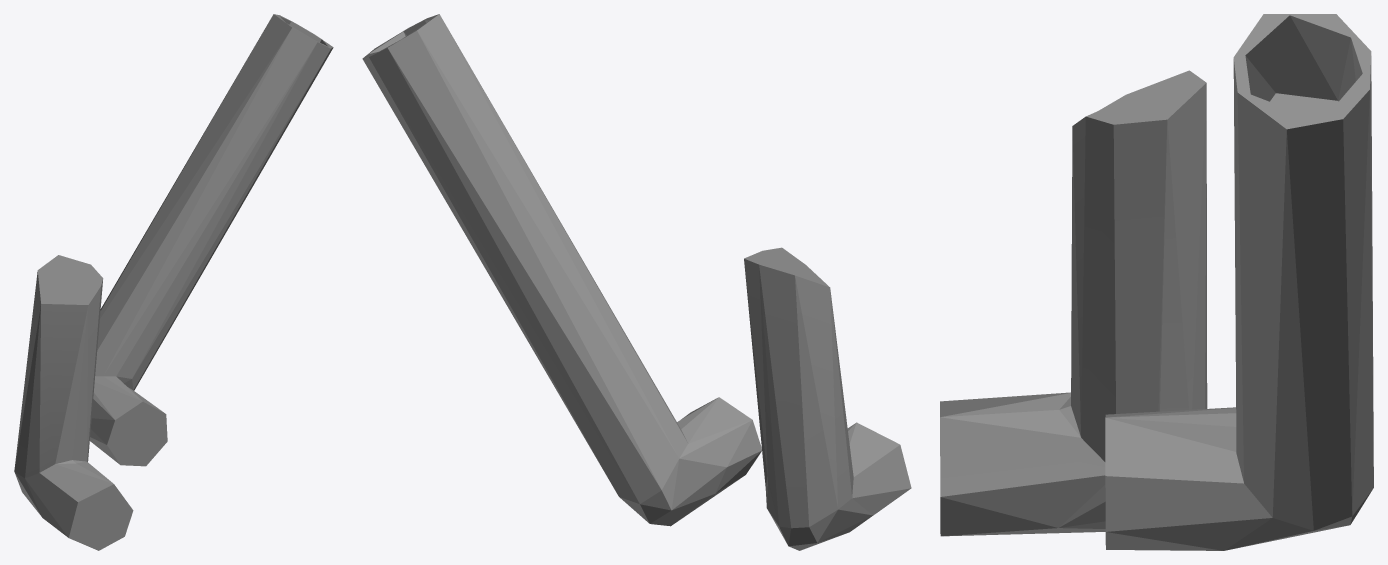
File: Tubo1.fbx
The picture shows the model from 3 angles, left to right: view 1: azimuth 30°, elevation 25°; view 2: azimuth 150°, elevation 25°; view 3: azimuth 270°, elevation 25°; orthographic projection. The views are drawn at different scales.
Visible parts, largest first — view 1: Tubo1; view 2: Tubo1; view 3: Tubo1.
Part boxes in pixels (bbox=[...]): Tubo1: bbox=[14, 14, 333, 550]; Tubo1: bbox=[362, 14, 911, 550]; Tubo1: bbox=[940, 14, 1373, 550].
Bounding box in the file's own units: 380 × 407 × 206.
